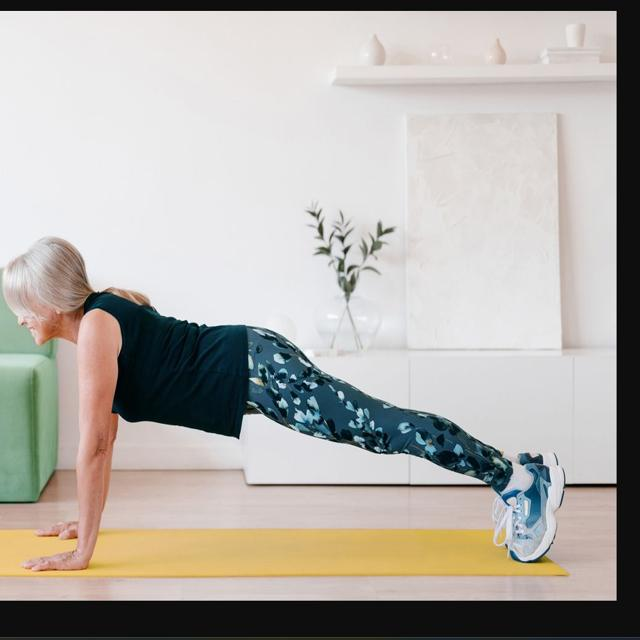Plank_Pose: (1, 232, 571, 573)
